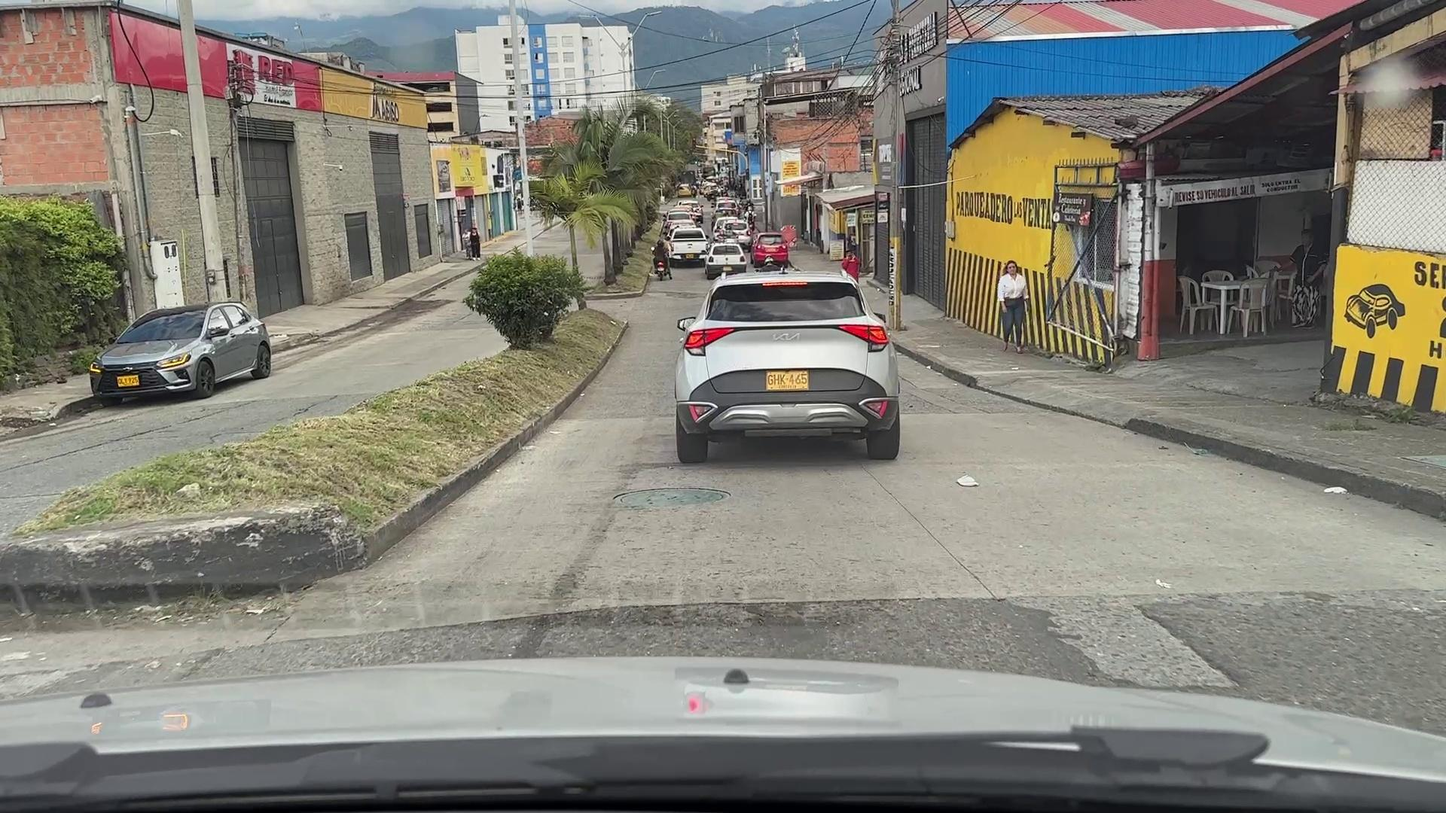bache: (1010, 596, 1234, 688)
registro: (613, 487, 729, 509)
